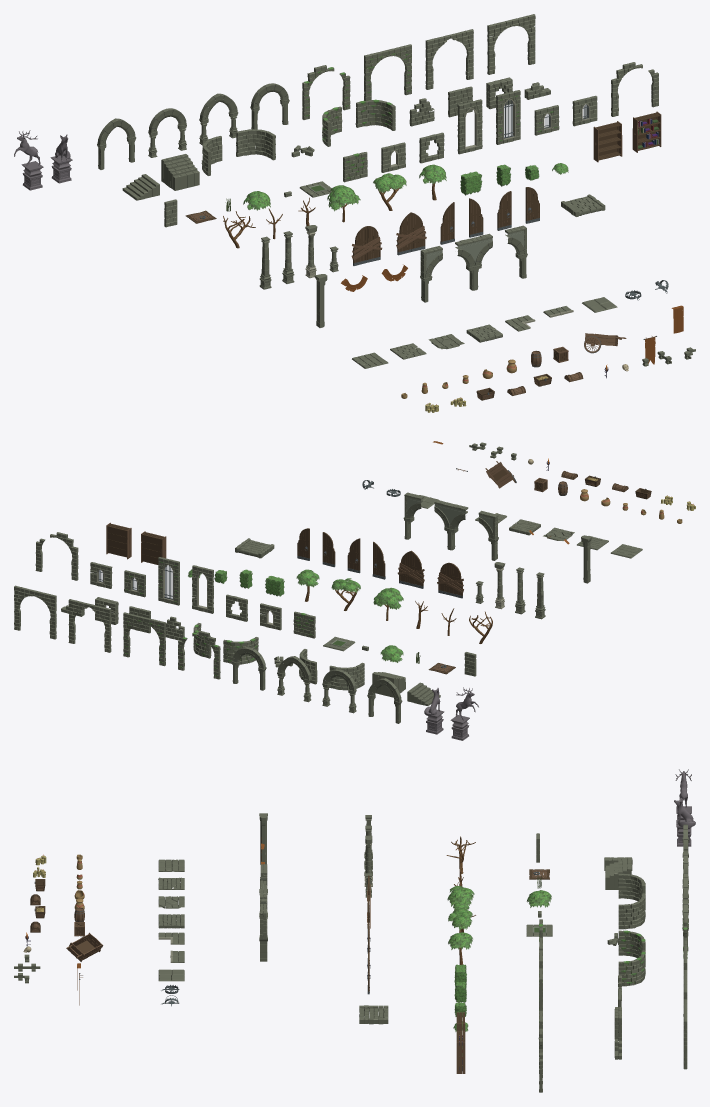
The model's file is blood_ruins.glb.
3 views of the same model, one above another, from view 1: azimuth 30°, elevation 25°; view 2: azimuth 150°, elevation 25°; view 3: azimuth 270°, elevation 25° (orthographic). The views are drawn at different scales.
Parts seen in each view (by area): view 1: Wall_Half, Doors_RoundArch_Covered, Bush_Large, Trapdoor, DeadTree_3, Wall_Overgrown; view 2: Wall_Half, Doors_RoundArch_Covered, Bush_Large, Trapdoor, DeadTree_3, Wall_Overgrown; view 3: Wall_Half, Bush_Large, Trapdoor, Doors_RoundArch_Covered.
Part boxes in pixels (x1,y1,x2,y2): Wall_Half: (14, 14, 695, 412); Doors_RoundArch_Covered: (351, 111, 661, 265); Bush_Large: (243, 163, 568, 211); Trapdoor: (98, 85, 668, 400); DeadTree_3: (223, 177, 436, 248); Wall_Overgrown: (304, 53, 557, 178); Wall_Half: (14, 441, 695, 740); Doors_RoundArch_Covered: (106, 522, 463, 598); Bush_Large: (188, 569, 403, 662); Trapdoor: (98, 461, 651, 698); DeadTree_3: (305, 579, 492, 643); Wall_Overgrown: (124, 561, 313, 675); Wall_Half: (14, 769, 695, 1092); Bush_Large: (447, 886, 551, 1031); Trapdoor: (30, 839, 687, 1006); Doors_RoundArch_Covered: (367, 875, 465, 1073).
Bounding box in the file's own units: 49.07 × 6.94 × 51.9.
Materials: 5 (5 with a texture image).
